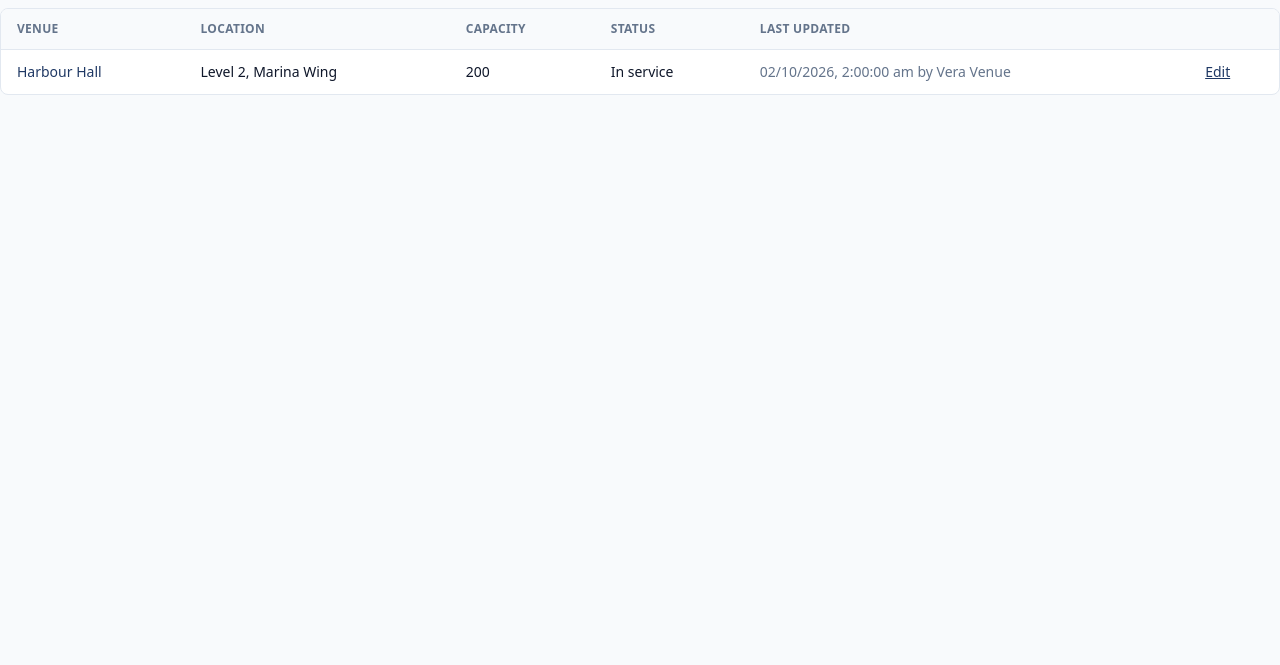
Scenario: VenueCatalogue (SCRUM-65) › AC3: a zero capacity is blocked and the reason shown beside the field
Click the button with aria-label "Edit Harbour Hall": (1218, 72) [1205,62,1230,82]
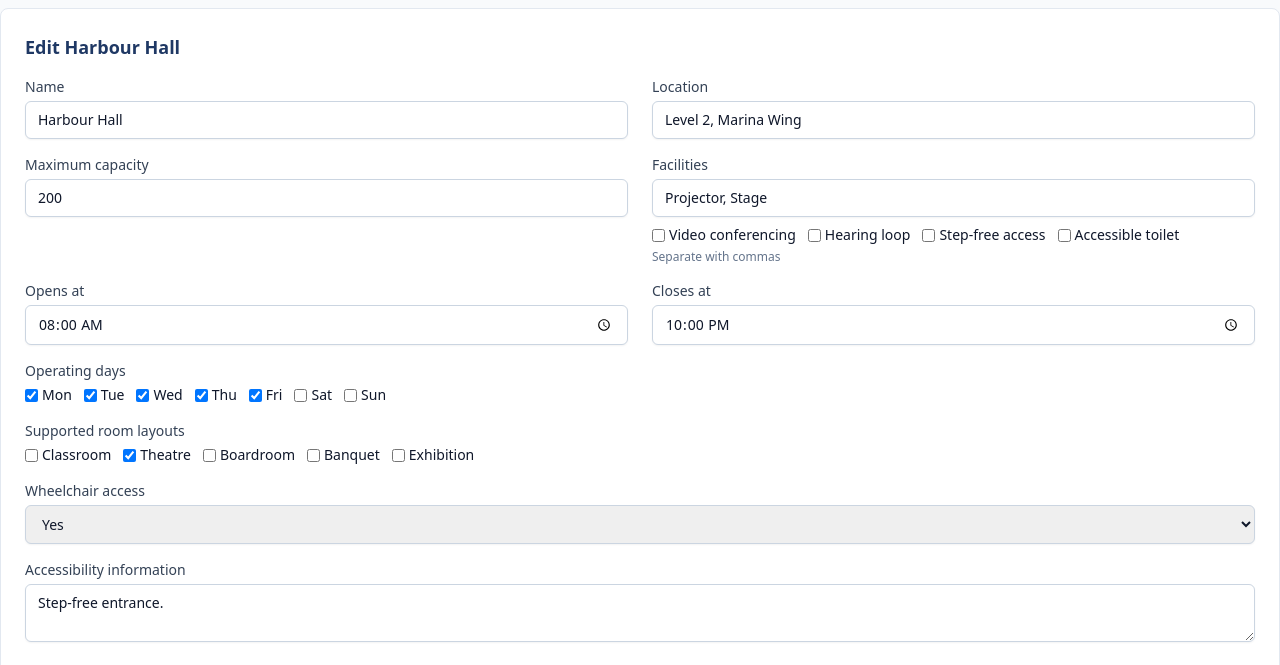
Replace the text in the number field labelled "Maximum capacity" with "0": (326, 198) [25,179,628,217]
(page scrolled)
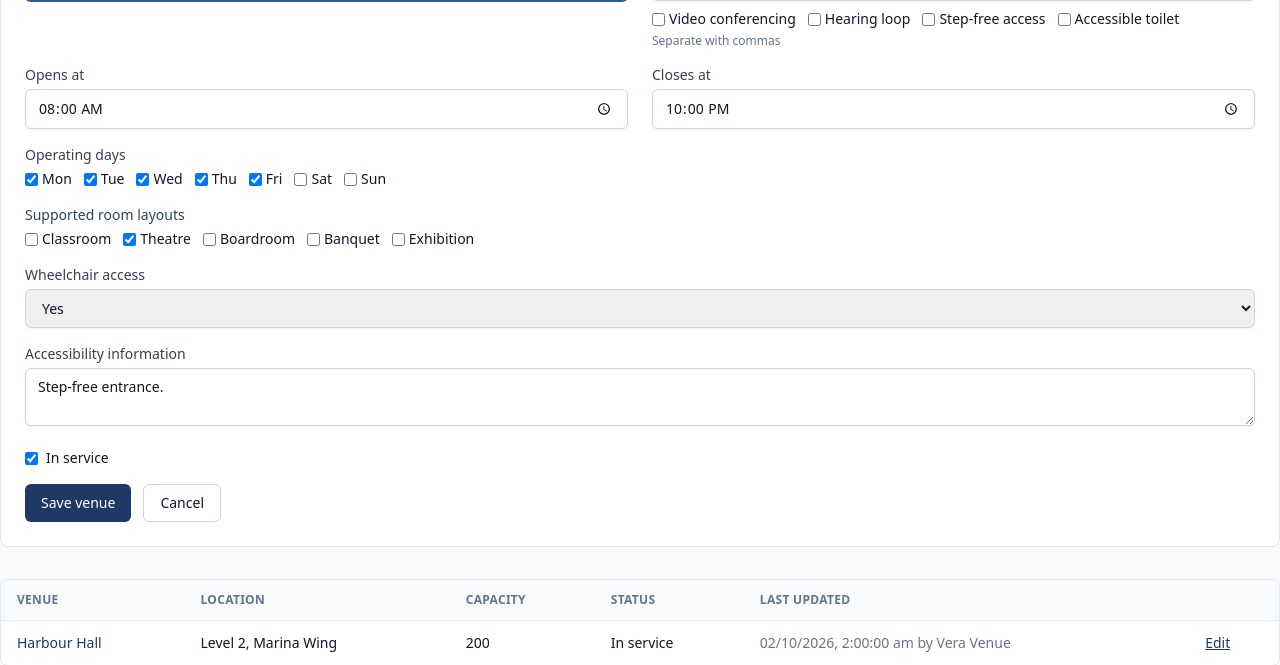
Click the button "Save venue": (78, 503) [25,484,131,522]
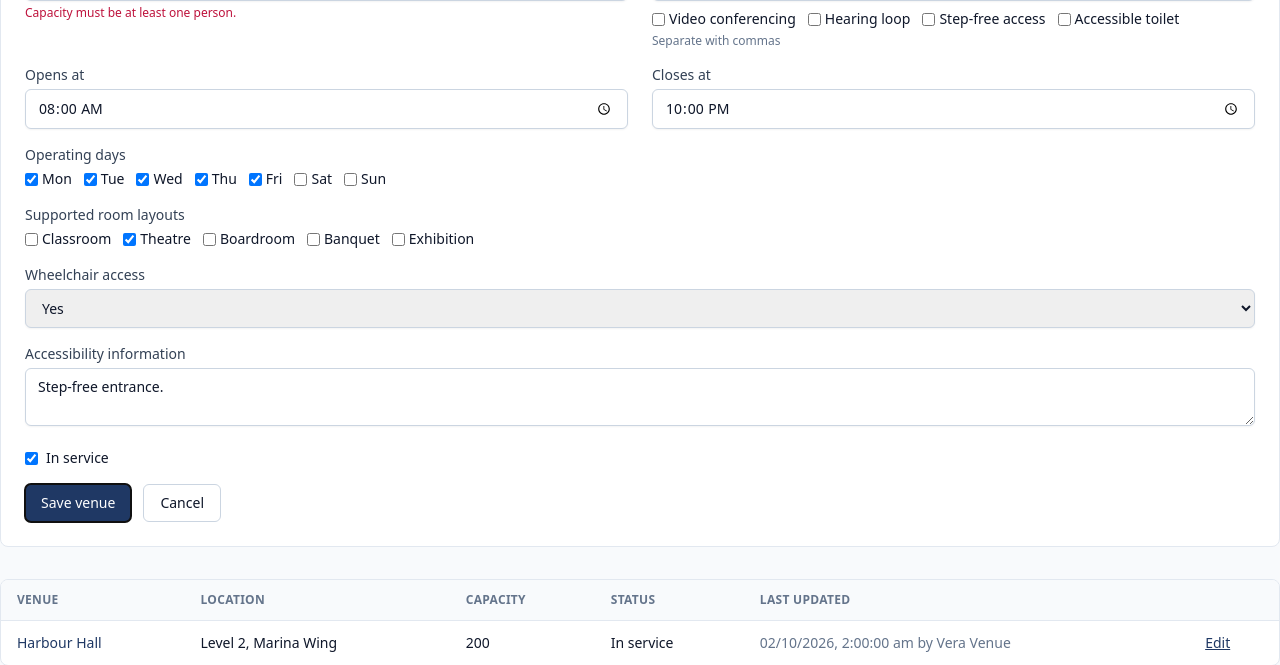
expect the text "Capacity must be at least one person." is shown: met, box [25,4,236,21]
